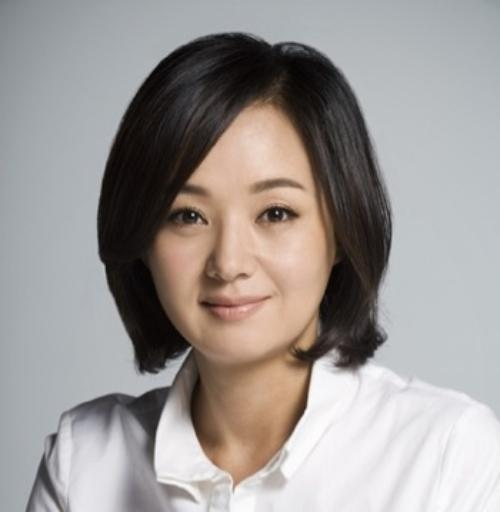left_eye: (255, 205, 304, 230)
left_lip_corner: (264, 293, 279, 309)
right_eye: (169, 208, 210, 230)
right_lip_corner: (197, 297, 212, 316)
